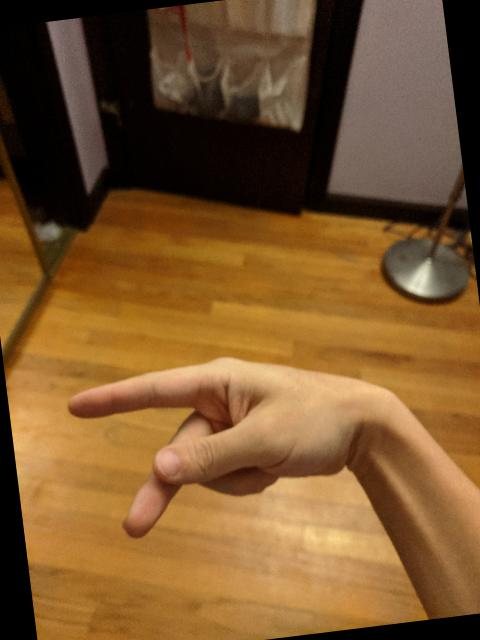P: (59, 336, 356, 550)
